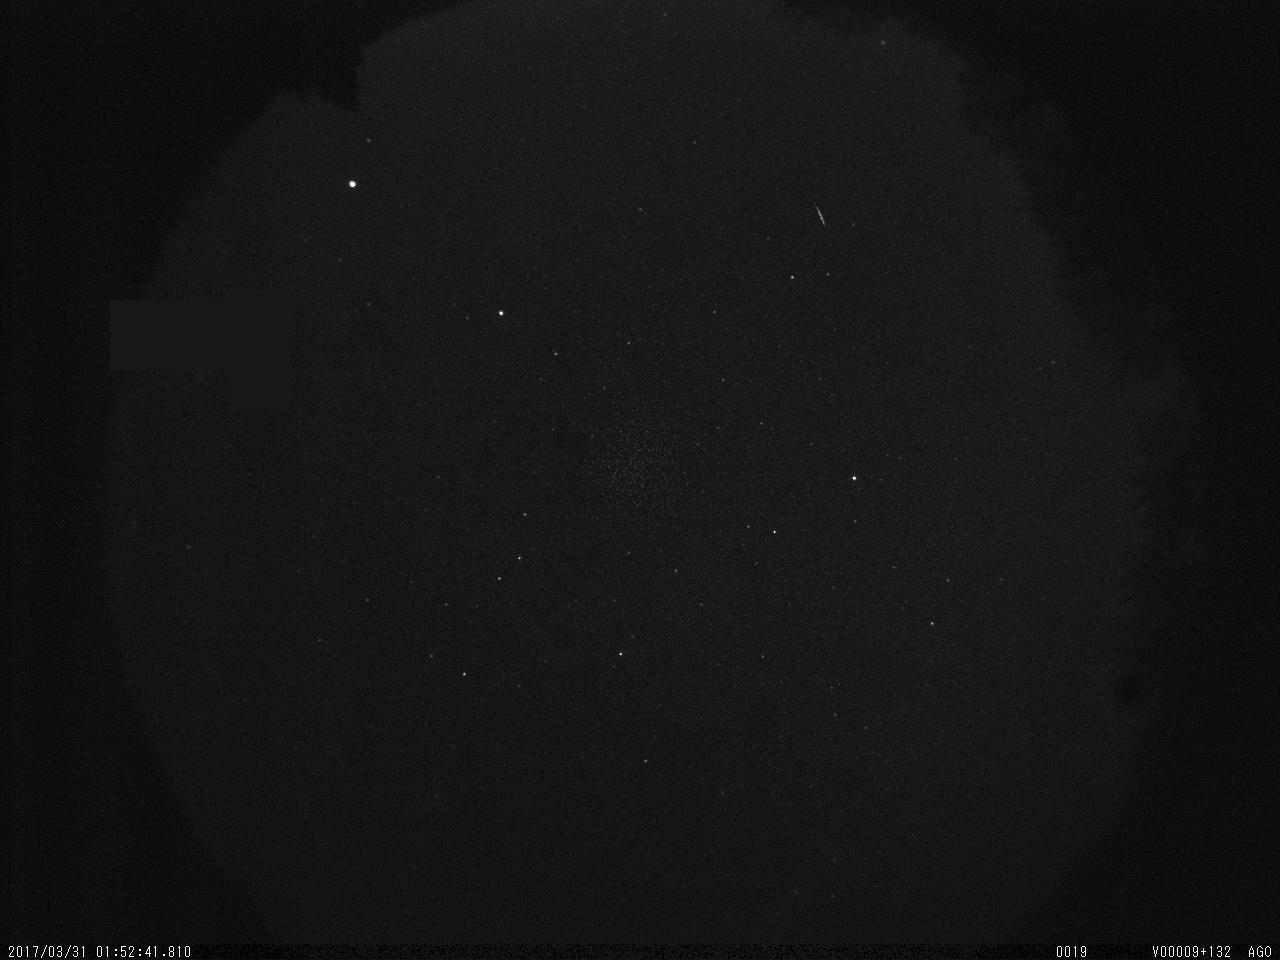Meteor: (810, 196, 834, 233)
